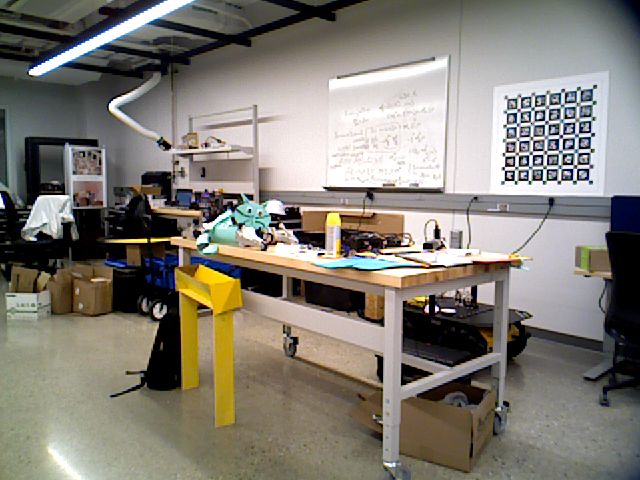painting4: (492, 72, 609, 194)
